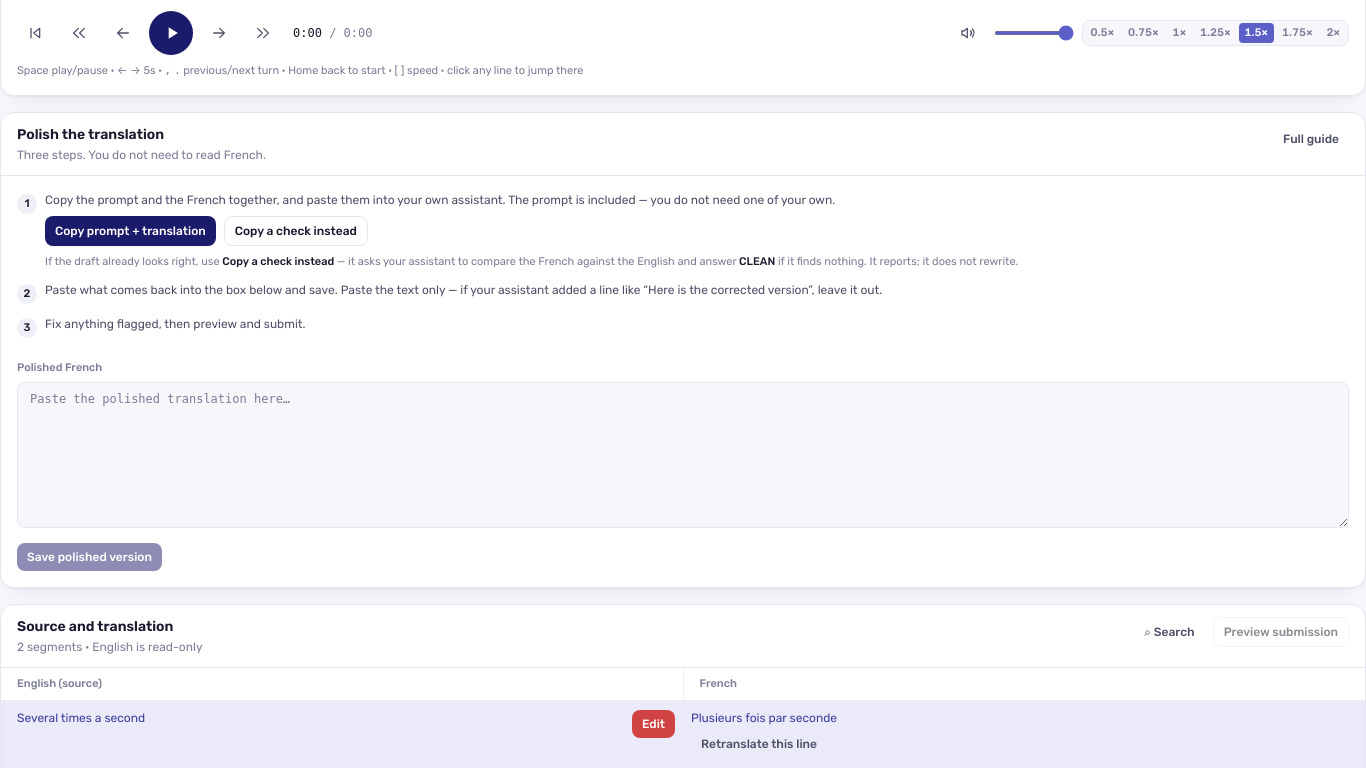
Test: retranslating a single line › explains a 409 as another job already running, not a generic failure
(page scrolled)
Check: the text "Plusieurs fois par seconde" is shown, box 691,710 -> 837,726
Click the button "Retranslate this line" at (759, 744), box 691,730 -> 827,758
(page scrolled)
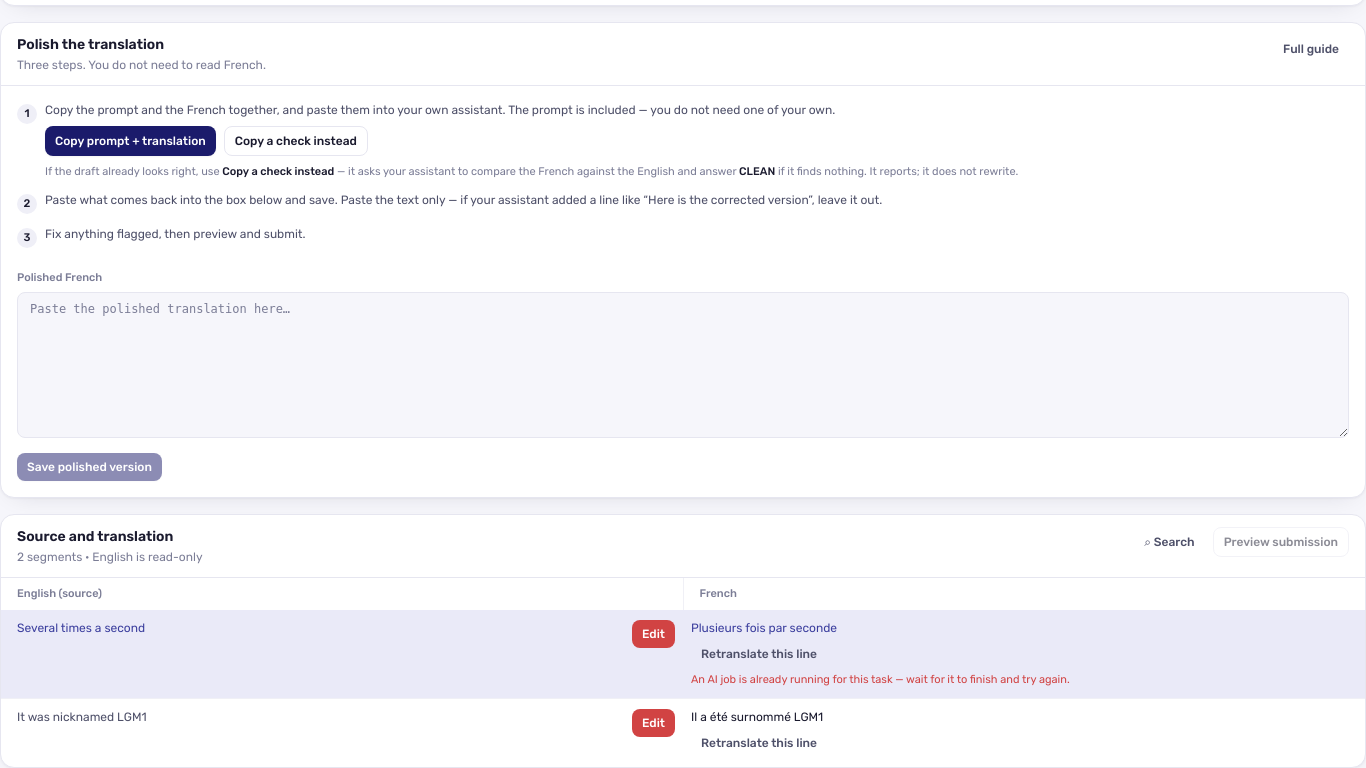
Check: the text "already running for this task" is shown, box 691,673 -> 1070,686
